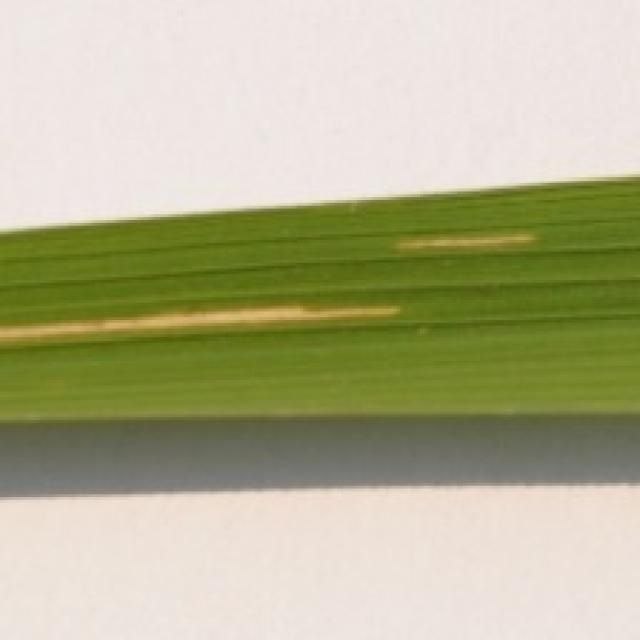Rice___Bacterial_Leaf_Blight: (0, 175, 637, 431)
